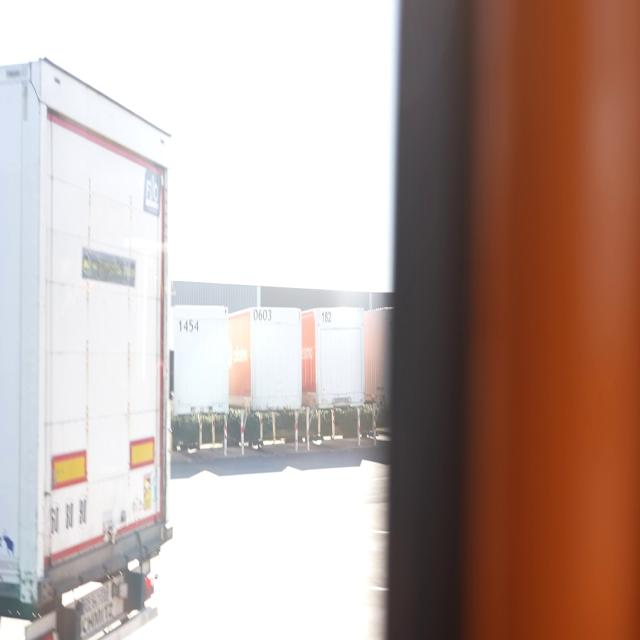Code: (177, 311, 205, 343), (252, 302, 276, 328), (318, 303, 334, 329)
